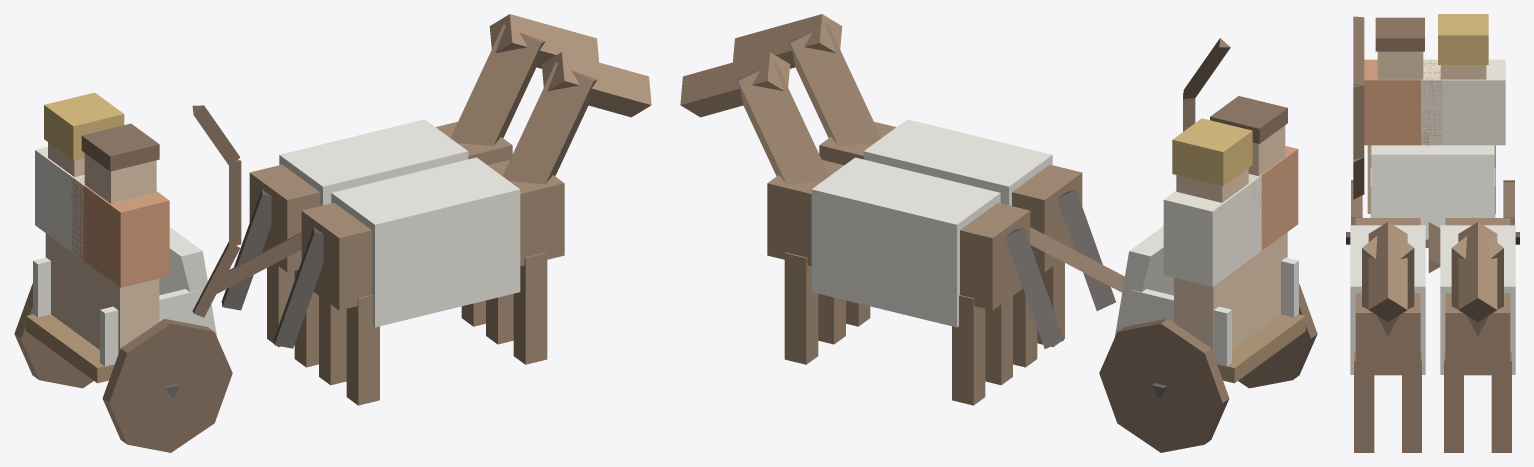
The model's file is formation_flank.glb.
The picture shows the model from 3 angles, left to right: view 1: azimuth 30°, elevation 25°; view 2: azimuth 150°, elevation 25°; view 3: azimuth 270°, elevation 25°; orthographic projection. The views are drawn at different scales.
Parts seen in each view (by area): view 1: ancient_formation_flank; view 2: ancient_formation_flank; view 3: ancient_formation_flank.
Boxes of the visible parts, <box> form: ancient_formation_flank: <box>14,14,651,452</box>; ancient_formation_flank: <box>680,14,1317,452</box>; ancient_formation_flank: <box>1346,14,1519,452</box>.
Size of the model in its own units: 0.9995 by 0.5756 by 0.3107.
